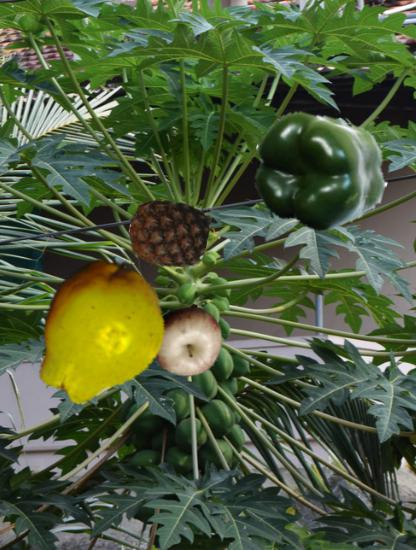Apple: (149, 303, 224, 378)
Pepper: (252, 104, 389, 241)
Pineapple: (129, 194, 209, 274)
Quince: (27, 258, 177, 408)
